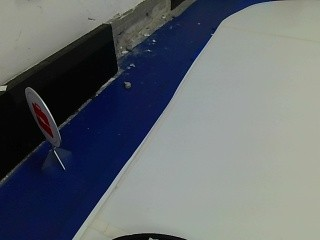company: (21, 83, 64, 148)
